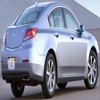Car: (2, 1, 100, 92)
